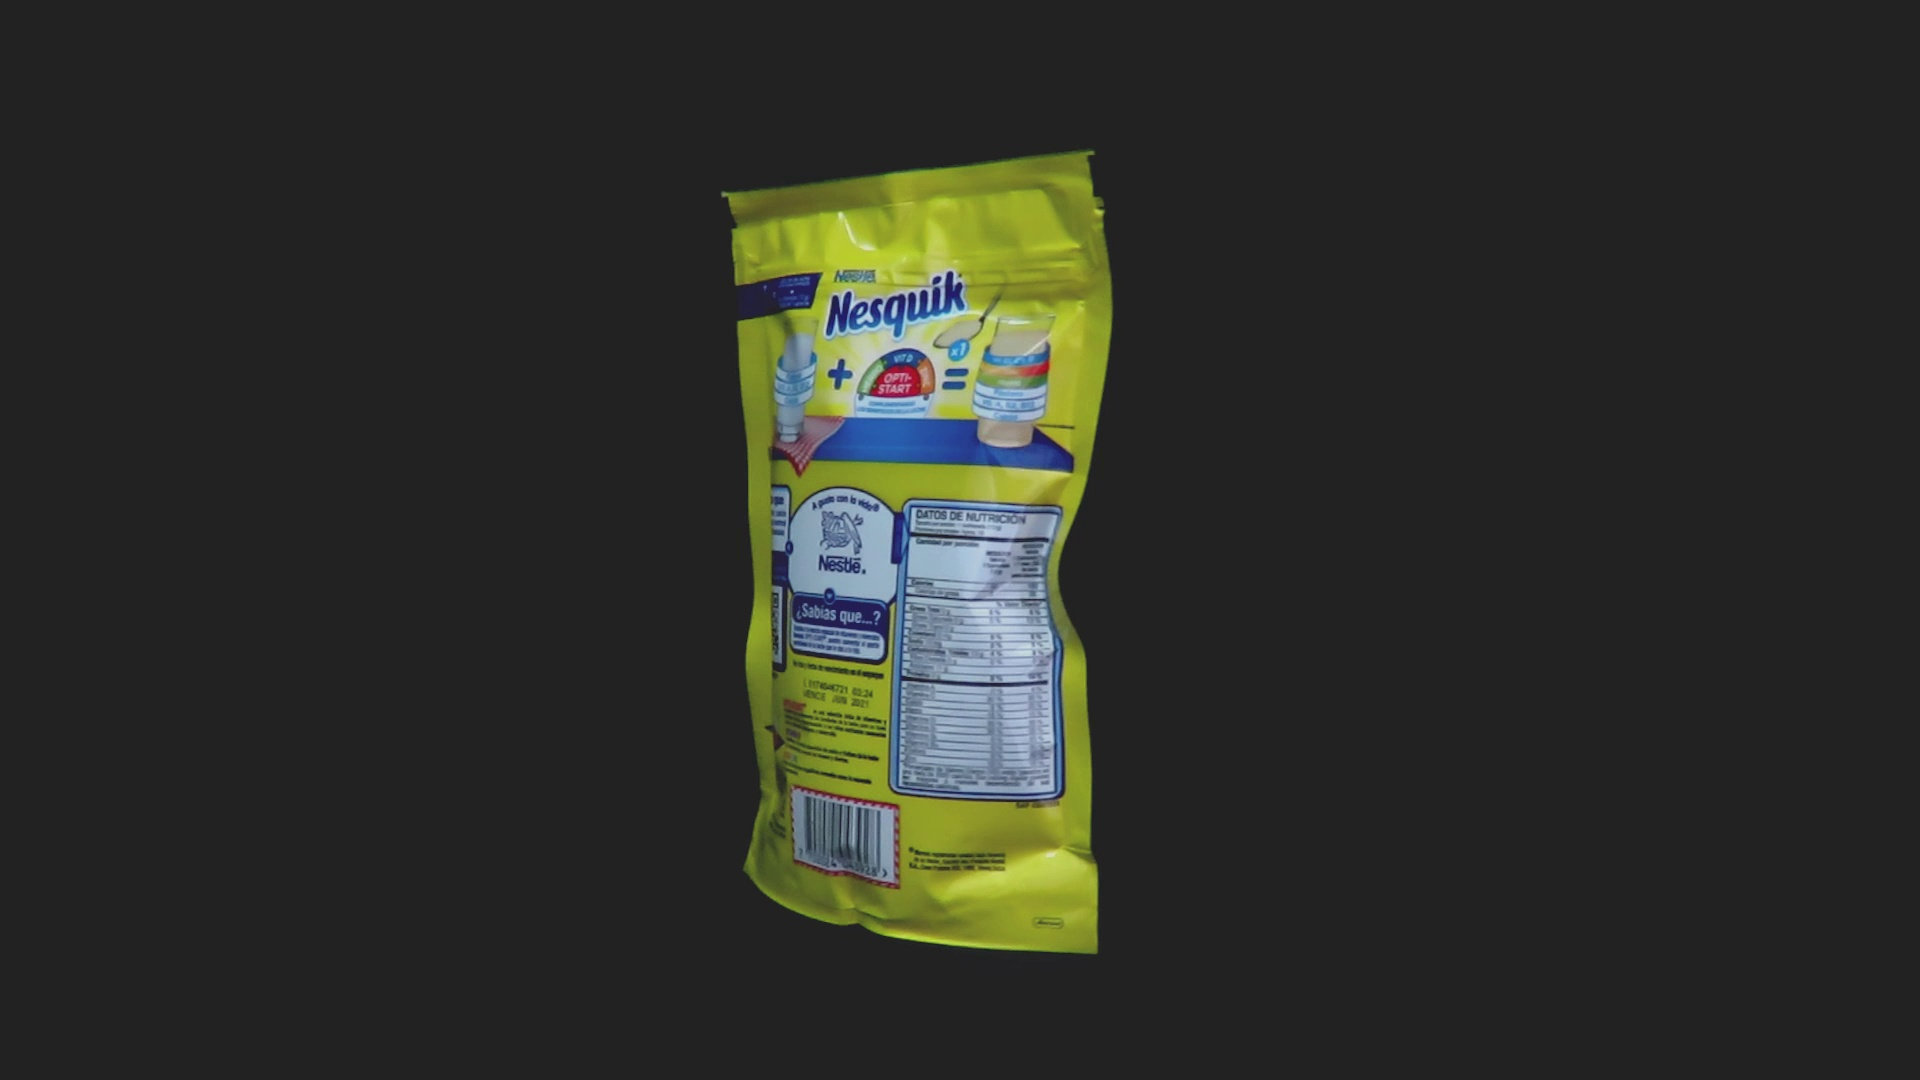COL0170306DYP20000: (716, 146, 1120, 961)
